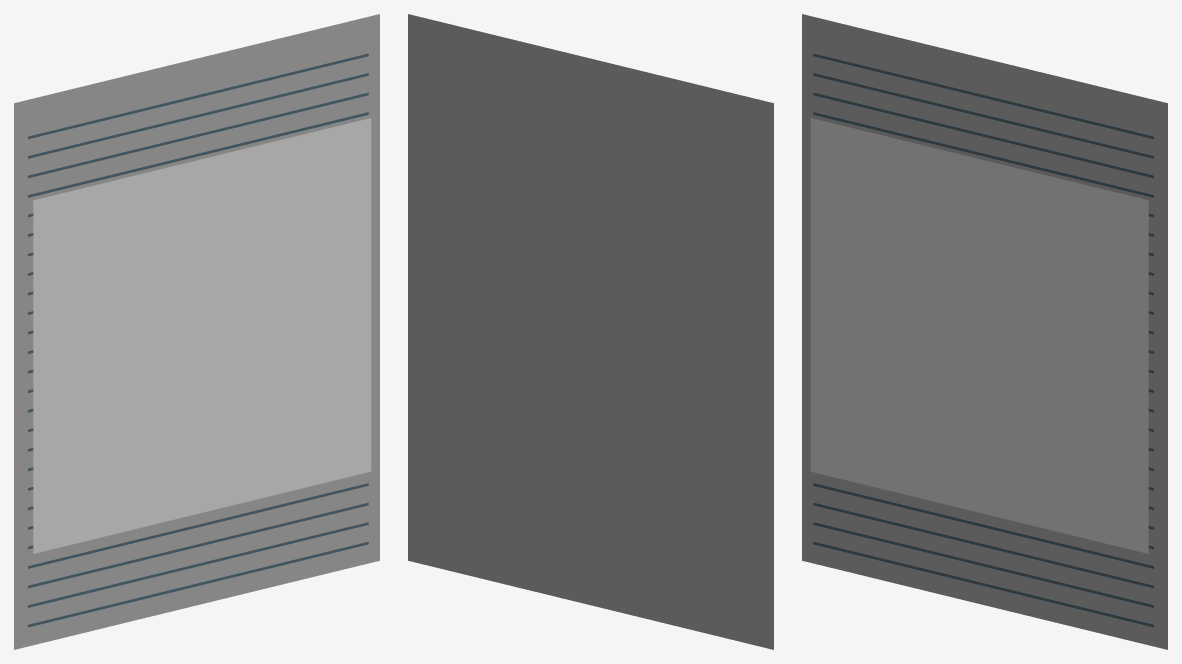
File: escape_folha_antiga.fbx
The picture shows the model from 3 angles, left to right: view 1: azimuth 30°, elevation 25°; view 2: azimuth 150°, elevation 25°; view 3: azimuth 330°, elevation 25°; orthographic projection.
Visible parts, largest first — view 1: FolhaDesenho.001, Folha.001; view 2: Folha.001; view 3: FolhaDesenho.001, Folha.001.
Part boxes in pixels (x1,y1,x2,y2): FolhaDesenho.001: (33,118,371,553); Folha.001: (14,14,379,649); Folha.001: (408,14,773,649); FolhaDesenho.001: (810,118,1148,553); Folha.001: (802,14,1167,649).
Bounding box in the file's own units: 98 × 140 × 2.51.
